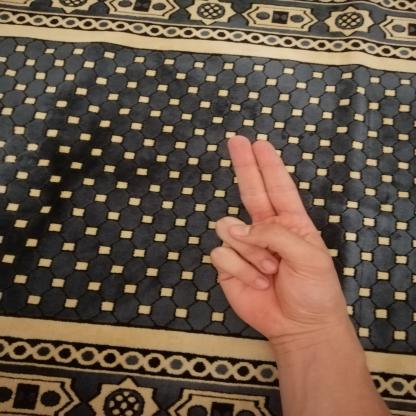TA: (196, 126, 361, 353)
